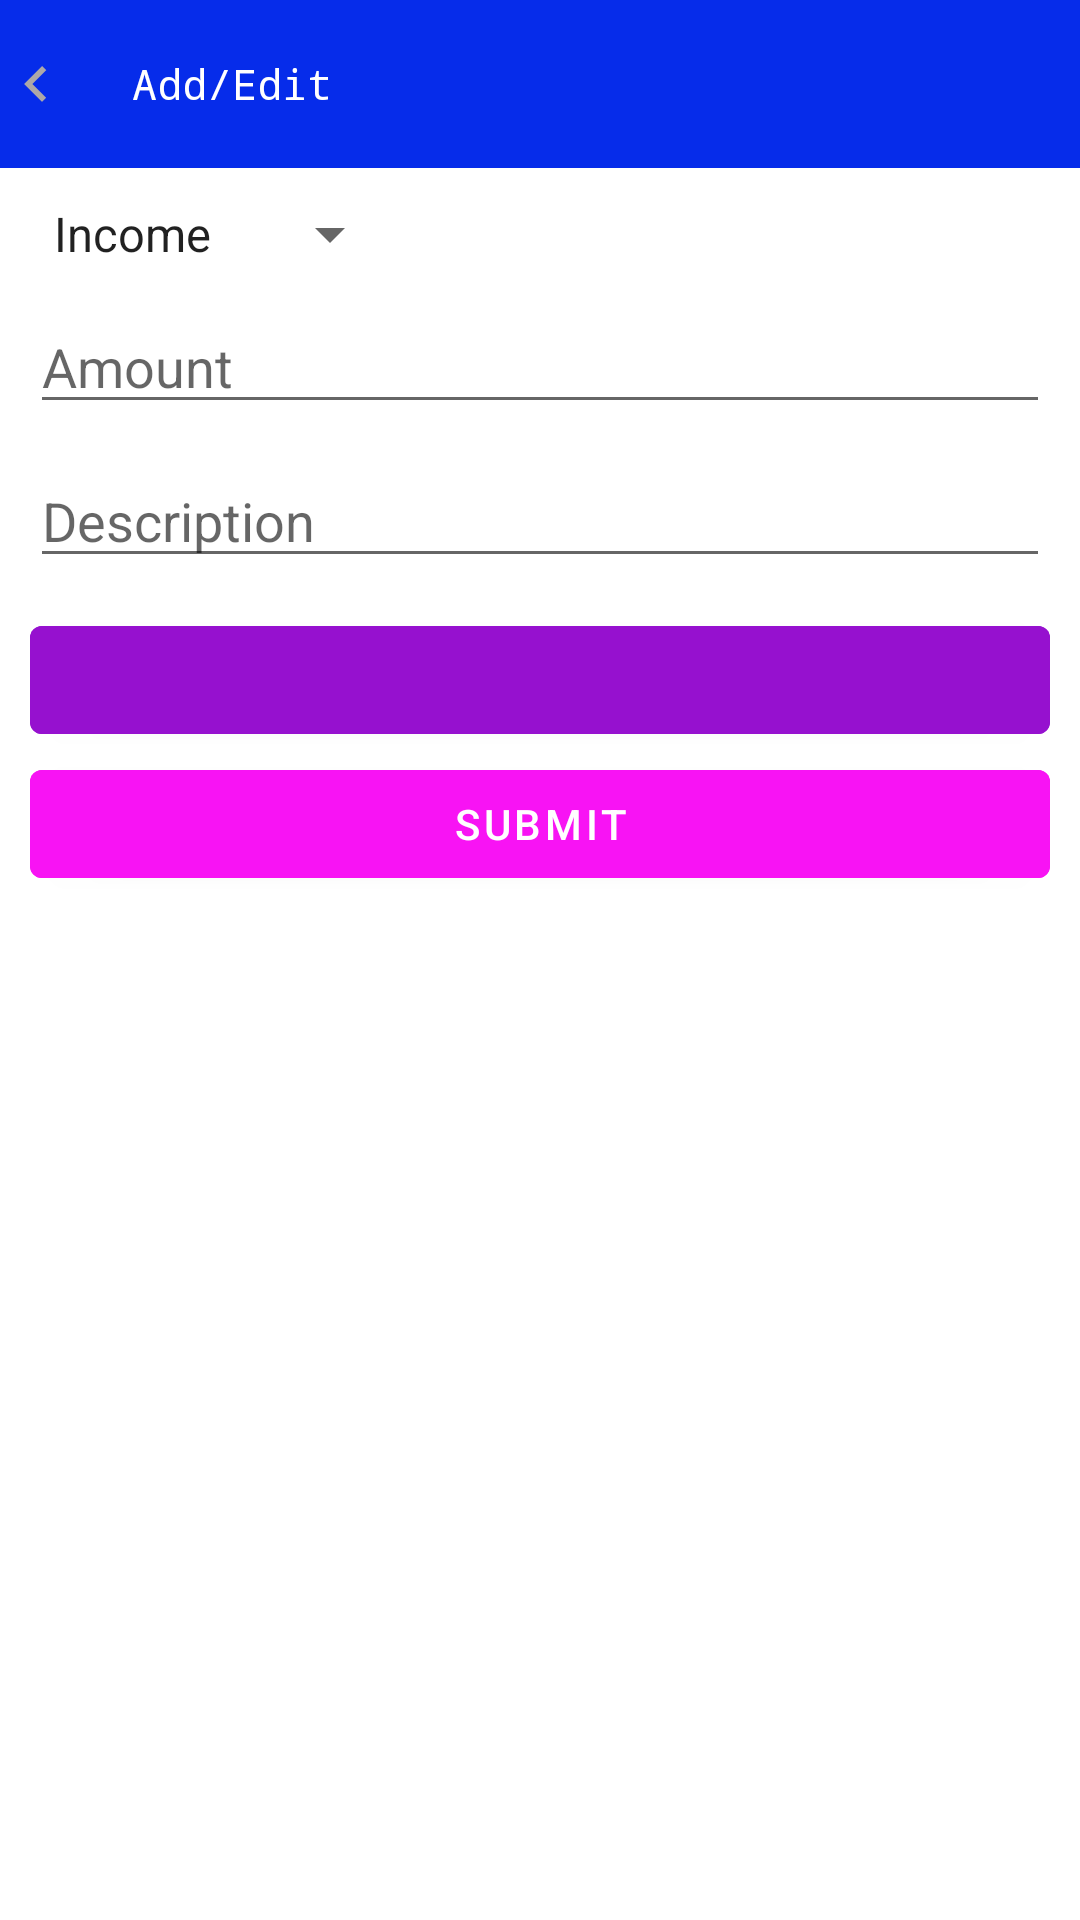

Locate icon controls on the screen. Image size 1080×1920, boxes as bbox=(x1, y1, x2, y2).
back: bbox=(24, 66, 46, 102)
